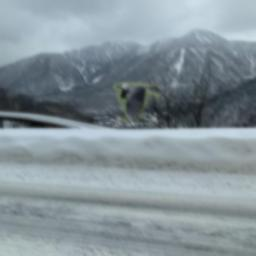Crow: (114, 82, 161, 122)
